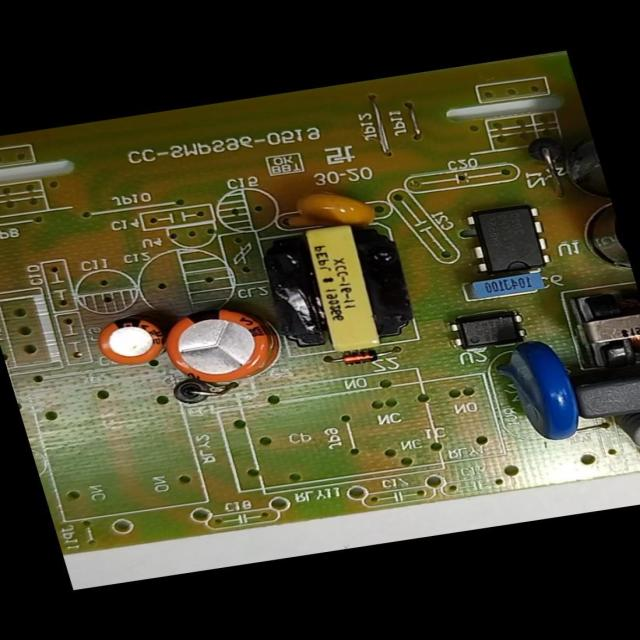Cap1: (153, 296, 290, 396)
Cap2: (85, 309, 177, 376)
Cap3: (570, 193, 633, 280)
Cap4: (549, 119, 609, 200)
MOSFET: (452, 201, 560, 279)
Mov: (476, 331, 593, 453)
Resistor: (604, 404, 639, 466)
Transformer: (249, 215, 424, 362), (555, 276, 639, 378)
